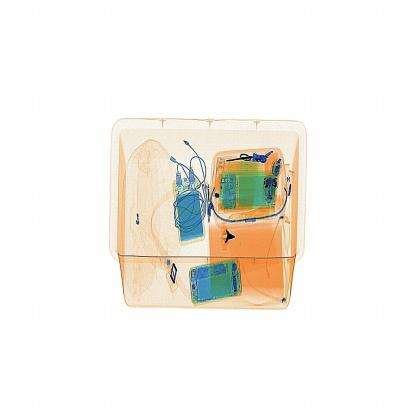gun: (216, 212, 243, 255)
